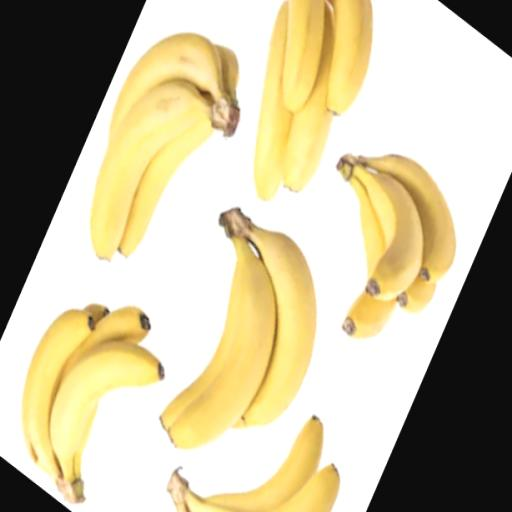banana-ripe: (10, 0, 475, 512)
